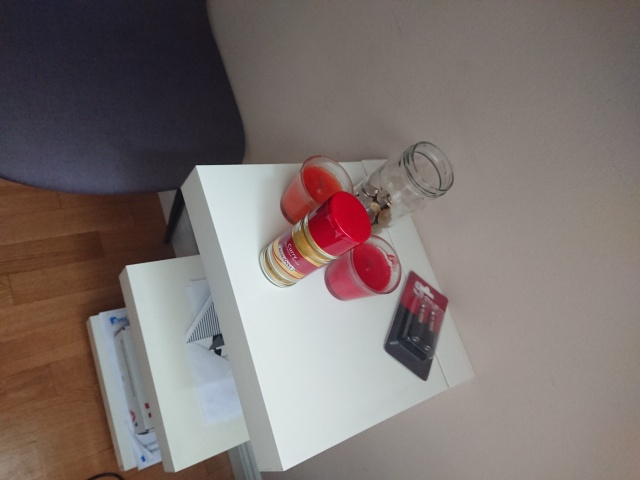Kotanyi Curry Spices Mix 70g: (255, 189, 374, 290)
